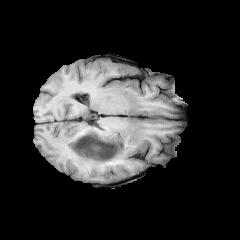glioma: (68, 82, 137, 164)
